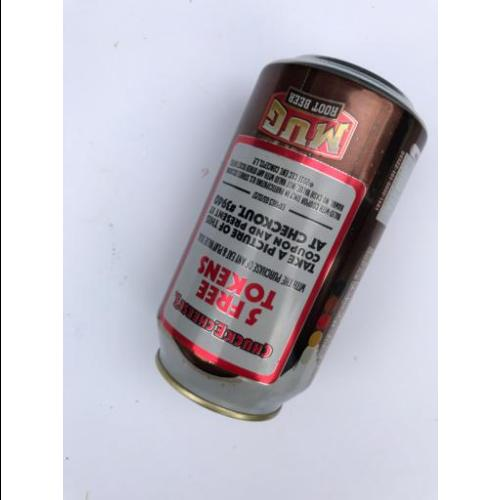metal: (155, 50, 427, 418)
